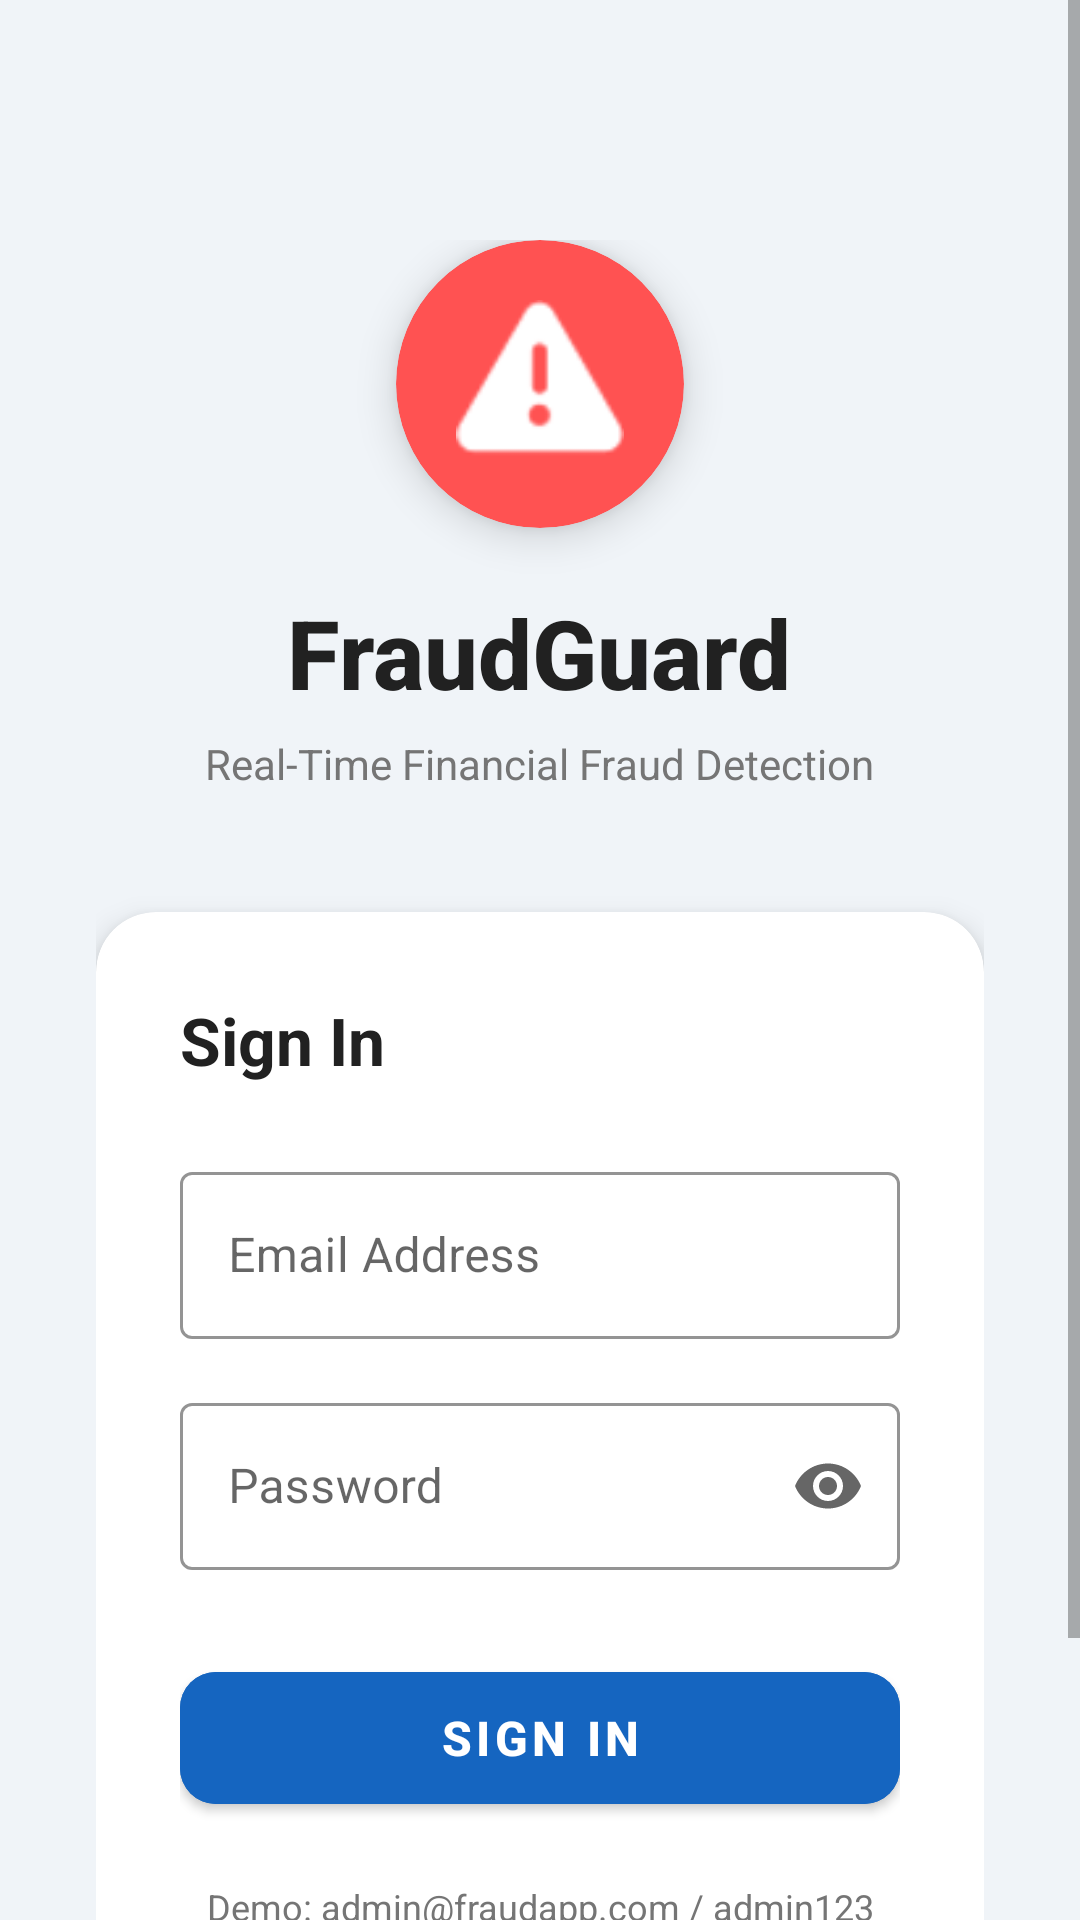

Icon click points for this 1080px×1920px phone screenshot, format point (x, y):
alert: point (540, 376)
